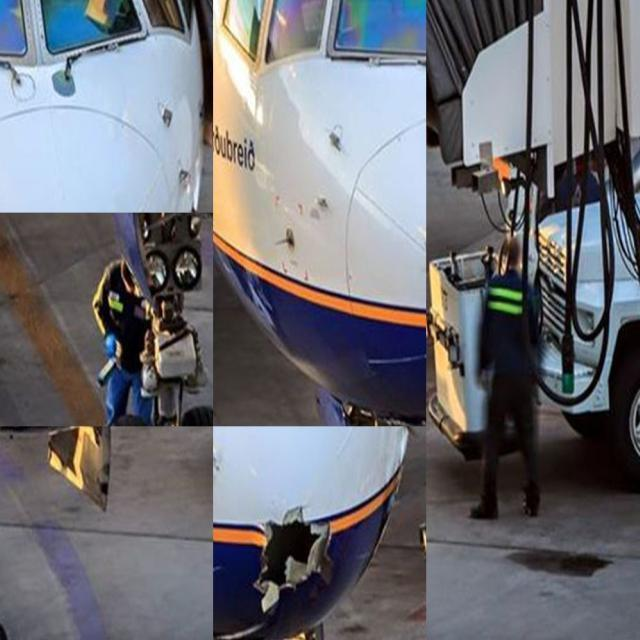crack: (250, 504, 338, 620)
